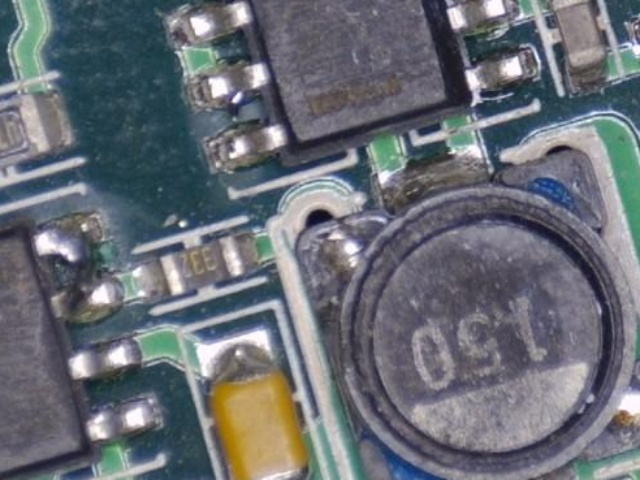pcb_defect: (184, 59, 289, 173), (33, 212, 118, 322)
